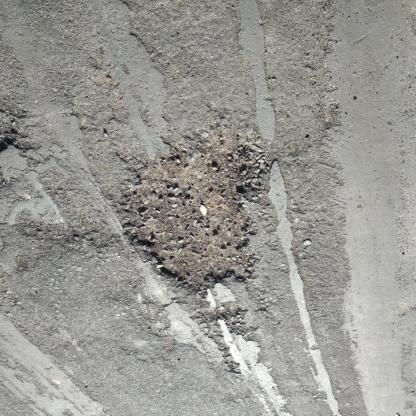pothole: (118, 127, 272, 296)
